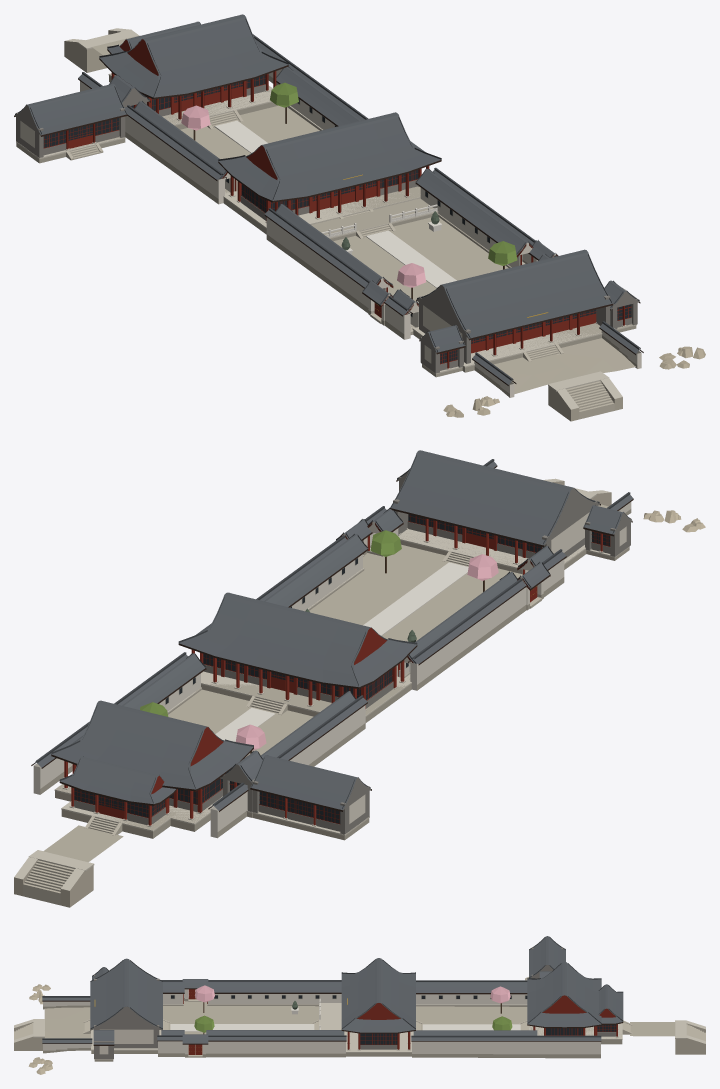
The picture shows the model from 3 angles, top to bottom: view 1: azimuth 30°, elevation 25°; view 2: azimuth 150°, elevation 25°; view 3: azimuth 270°, elevation 25°; orthographic projection. The views are drawn at different scales.
Parts seen in each view (by area): view 1: YM03 九洲清晏 Jiuzhou Qingyan; view 2: YM03 九洲清晏 Jiuzhou Qingyan; view 3: YM03 九洲清晏 Jiuzhou Qingyan.
Boxes of the visible parts, bbox=[...] form: YM03 九洲清晏 Jiuzhou Qingyan: bbox=[14, 14, 705, 421]; YM03 九洲清晏 Jiuzhou Qingyan: bbox=[14, 450, 705, 907]; YM03 九洲清晏 Jiuzhou Qingyan: bbox=[14, 936, 705, 1074].
Bounding box in the file's own units: 43.61 × 13.39 × 124.
